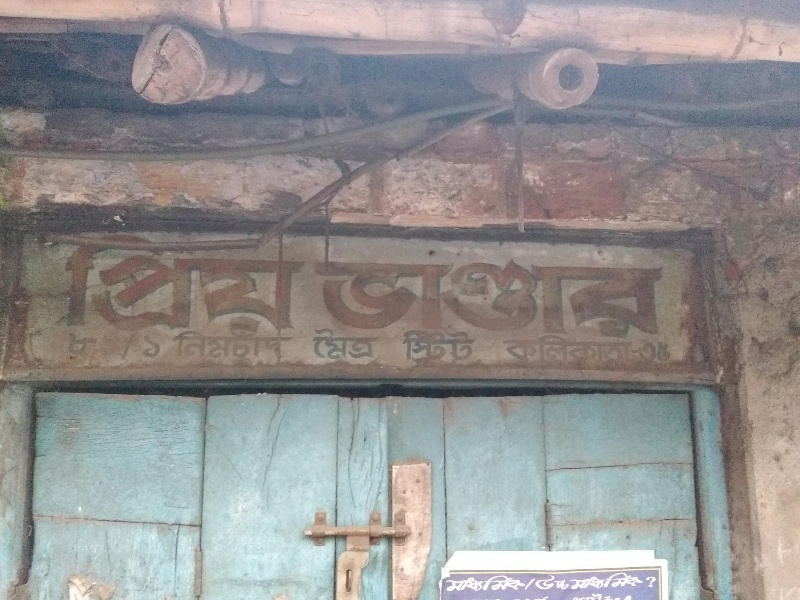text: (81, 224, 96, 340), (97, 224, 112, 340), (113, 224, 128, 340), (129, 224, 144, 340), (145, 224, 160, 340), (161, 224, 176, 340), (177, 224, 192, 340), (193, 224, 208, 340), (209, 224, 224, 340), (225, 224, 240, 340), (241, 224, 256, 340), (257, 224, 272, 340), (273, 224, 288, 340), (289, 224, 304, 340), (68, 224, 80, 340), (321, 257, 336, 340), (337, 257, 352, 340), (353, 257, 368, 340), (369, 257, 384, 340), (385, 257, 400, 340), (401, 257, 416, 340), (417, 257, 432, 340), (433, 257, 448, 340), (449, 257, 464, 340), (465, 257, 480, 340), (481, 257, 496, 340), (497, 257, 512, 340), (513, 257, 528, 340), (529, 257, 544, 340), (545, 257, 560, 340), (561, 257, 576, 340), (577, 257, 592, 340), (593, 257, 608, 340), (609, 257, 624, 340), (625, 257, 640, 340), (641, 257, 656, 340), (310, 257, 320, 340), (657, 257, 667, 340), (305, 224, 311, 340), (401, 327, 416, 365), (417, 327, 432, 365), (433, 327, 448, 365), (449, 327, 464, 365), (465, 327, 480, 365), (177, 327, 192, 362), (193, 327, 208, 362), (209, 327, 224, 362), (225, 327, 240, 362), (241, 327, 256, 362), (257, 327, 272, 362), (273, 327, 288, 362), (321, 327, 336, 362), (337, 327, 352, 362), (353, 327, 368, 362), (641, 335, 656, 369), (657, 335, 672, 369), (513, 331, 528, 365), (529, 331, 544, 365), (545, 331, 560, 365), (561, 331, 576, 365), (577, 331, 592, 365), (593, 331, 608, 365), (609, 331, 624, 365), (625, 331, 640, 365), (65, 329, 80, 361), (81, 329, 96, 361), (369, 327, 382, 362), (308, 327, 320, 362), (145, 334, 161, 359), (101, 327, 112, 361), (502, 331, 512, 365), (449, 573, 464, 595), (465, 573, 480, 595), (481, 573, 496, 595), (497, 573, 512, 595), (513, 573, 528, 595), (545, 571, 560, 592), (561, 571, 576, 592), (577, 571, 592, 592), (593, 571, 608, 592), (609, 571, 624, 592), (625, 571, 640, 592), (641, 571, 656, 592), (168, 327, 176, 362), (113, 327, 120, 361), (129, 333, 137, 361), (289, 327, 294, 362), (536, 571, 544, 592), (122, 333, 128, 361), (97, 329, 102, 361), (140, 334, 144, 359), (481, 593, 496, 599), (497, 593, 512, 599), (513, 593, 528, 599), (529, 593, 544, 599), (545, 593, 560, 599), (561, 593, 576, 599), (577, 593, 592, 599), (593, 593, 608, 599), (609, 593, 624, 599), (625, 593, 640, 599), (481, 327, 483, 365), (638, 335, 640, 369), (673, 335, 675, 369), (62, 329, 64, 361), (529, 573, 531, 595), (641, 331, 642, 365), (475, 593, 480, 599), (657, 571, 658, 592), (641, 593, 643, 599)
